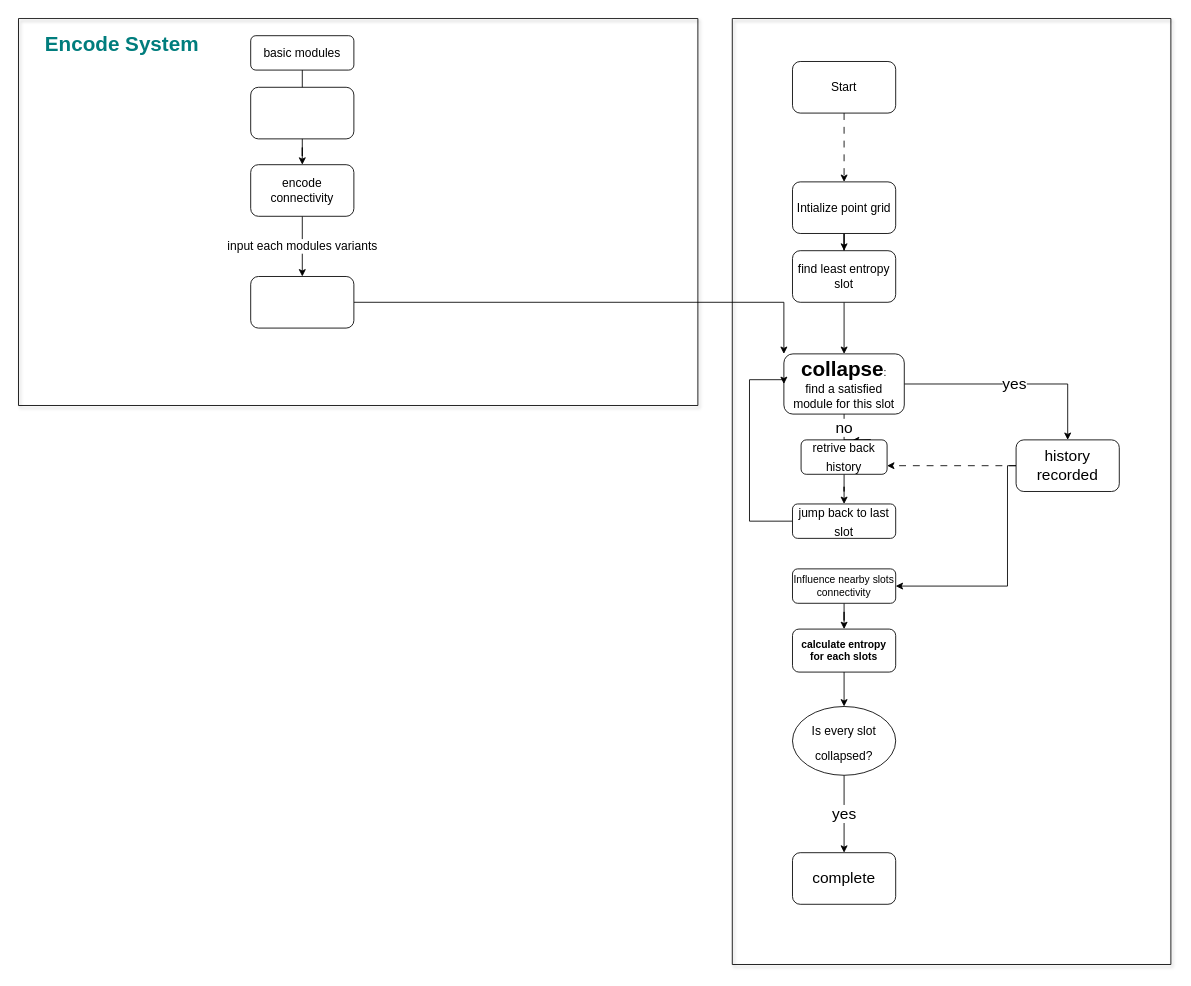
Image size: 1191x986. Some labels were removed from this diagram. Each missing label, with the centre of its shape:
Inference System: the point at 952,492
make 24 variants: the point at 302,112
Module Libray: the point at 302,302
